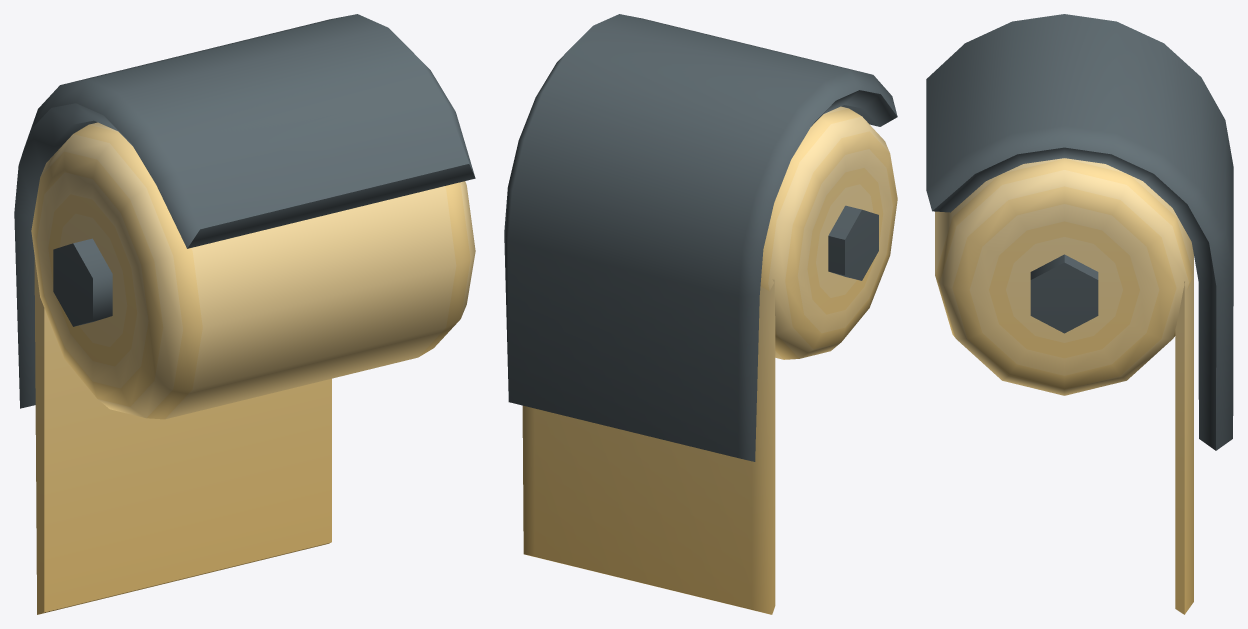
Rendered from Toilet_paper_01.glb.
The picture shows the model from 3 angles, left to right: view 1: azimuth 30°, elevation 25°; view 2: azimuth 150°, elevation 25°; view 3: azimuth 270°, elevation 25°; orthographic projection. The views are drawn at different scales.
Visible parts, largest first — view 1: Toilet_paper_01; view 2: Toilet_paper_01; view 3: Toilet_paper_01.
Part boxes in pixels (x1,y1,x2,y2): Toilet_paper_01: (14,14,475,614); Toilet_paper_01: (504,14,897,614); Toilet_paper_01: (926,14,1233,614).
Size of the model in its own units: 0.1914 by 0.2894 by 0.1662.
1 material, 1 textured.
